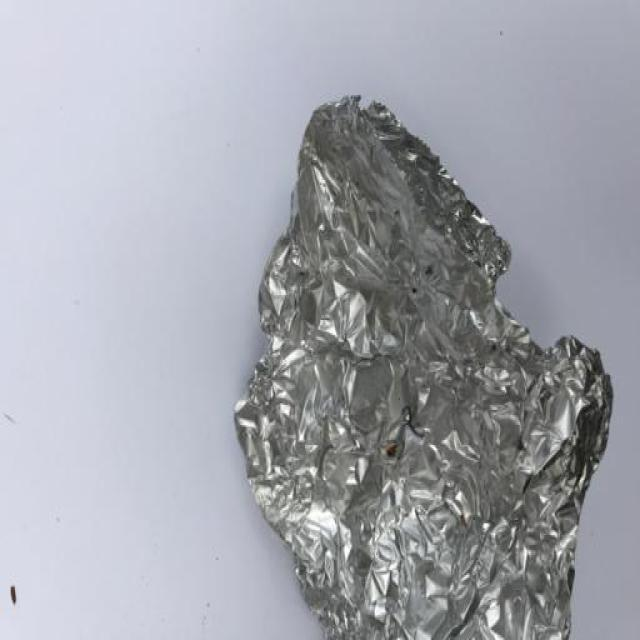metal: (231, 91, 614, 638)
